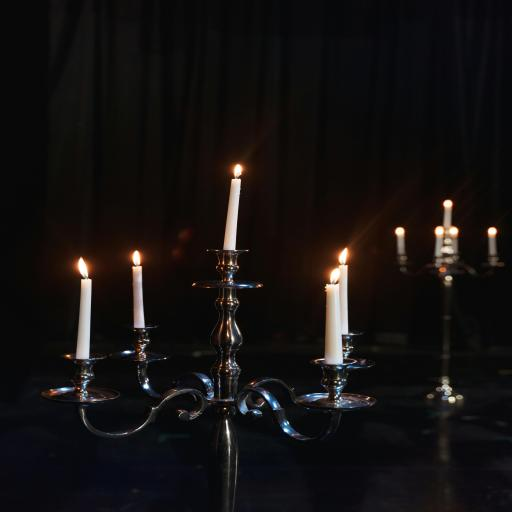candlelight: (68, 252, 103, 356), (324, 269, 342, 362), (223, 164, 243, 240), (130, 251, 144, 326), (337, 247, 349, 332), (441, 198, 453, 250), (395, 228, 408, 262), (486, 226, 498, 258), (434, 225, 443, 258)
